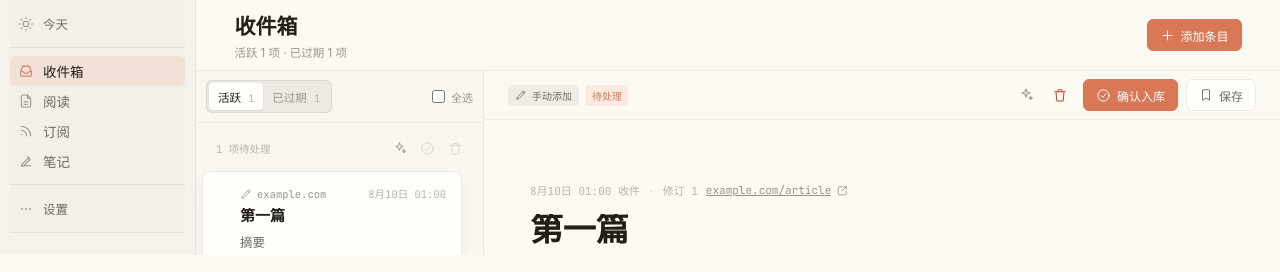
Test: InboxSurface › updates the active count after individual 确认
Click the button "确认入库": (1130, 95) x1=1083 y1=79 x2=1178 y2=111
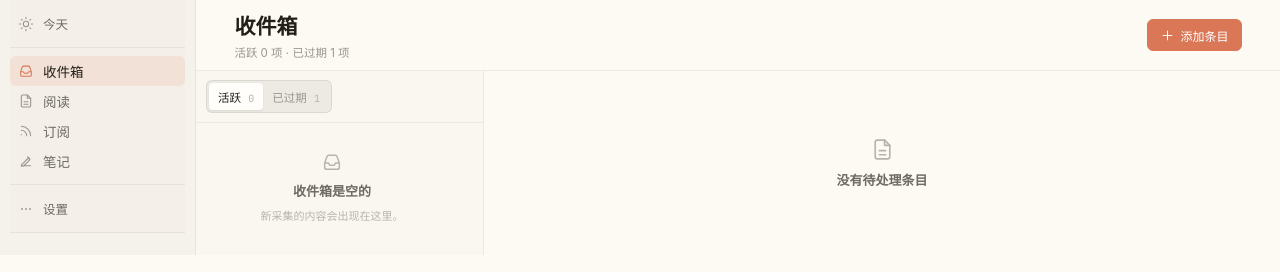
Expected: the tab with aria-label "已过期 (1)" is shown, x1=263 y1=83 x2=329 y2=110
Result: the tab with aria-label "活跃 (0)" is shown at x1=209 y1=83 x2=263 y2=110
